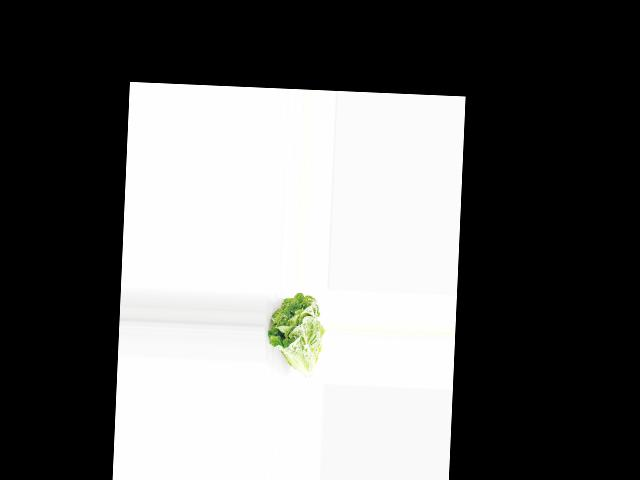lettuce: (265, 292, 327, 376)
